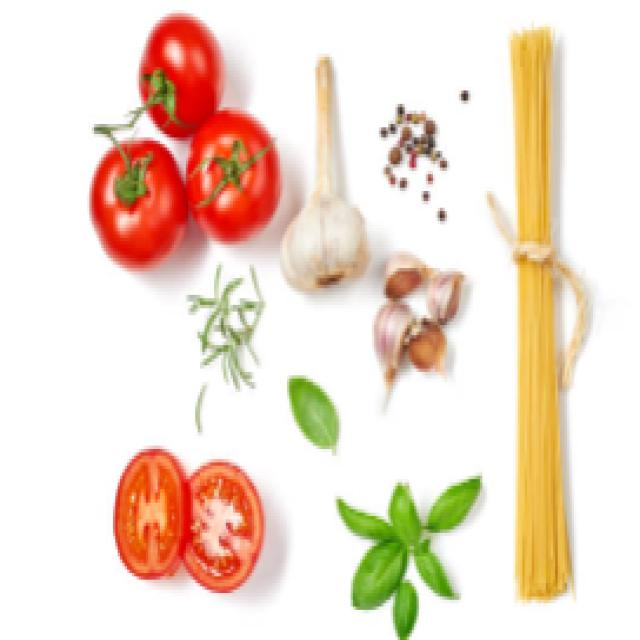Tomato: (112, 444, 269, 590), (73, 116, 185, 276), (170, 102, 288, 245), (130, 21, 234, 139)
